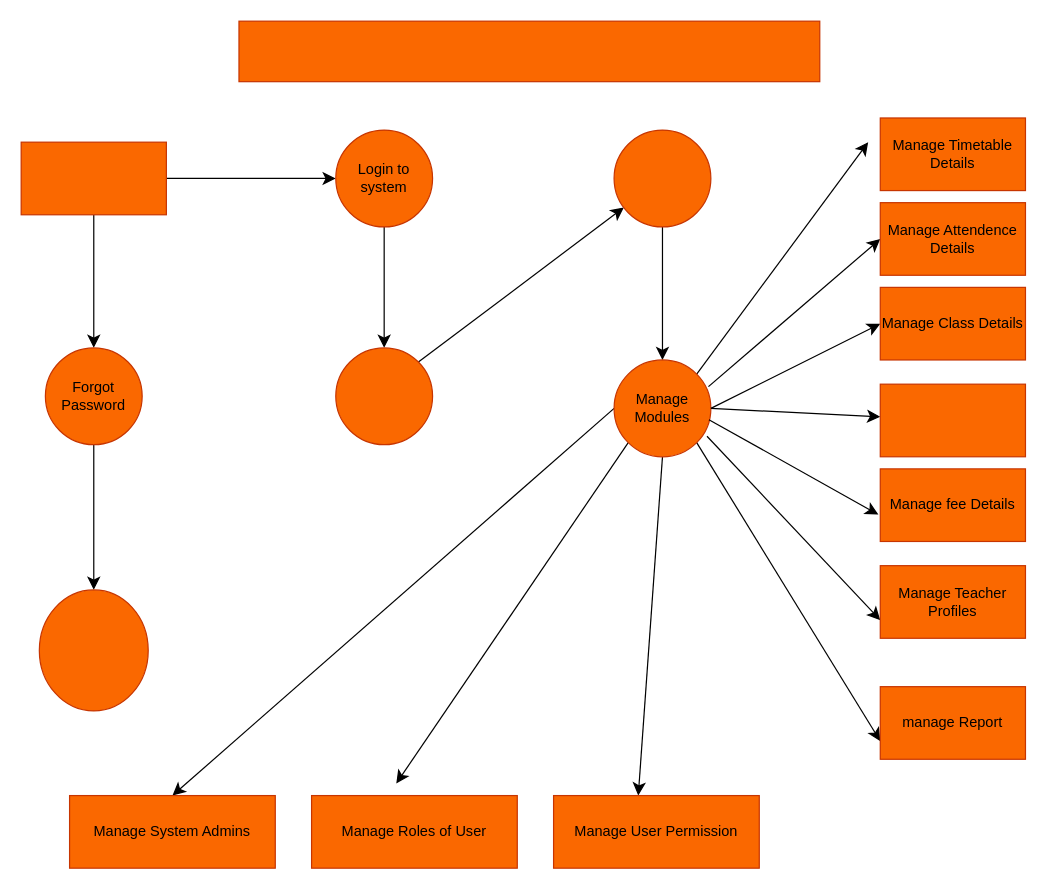
This 1047x889 diagram has some shape labels left out. Here are the shapes that lost their labels. From the top down, the centre of each, then its label:
At (529,51): "Student Information System".
At (93,178): "Admin".
At (662,178): "Check Roles of Access".
At (384,396): "Check Credentials".
At (952,420): "Manage Student Details".
